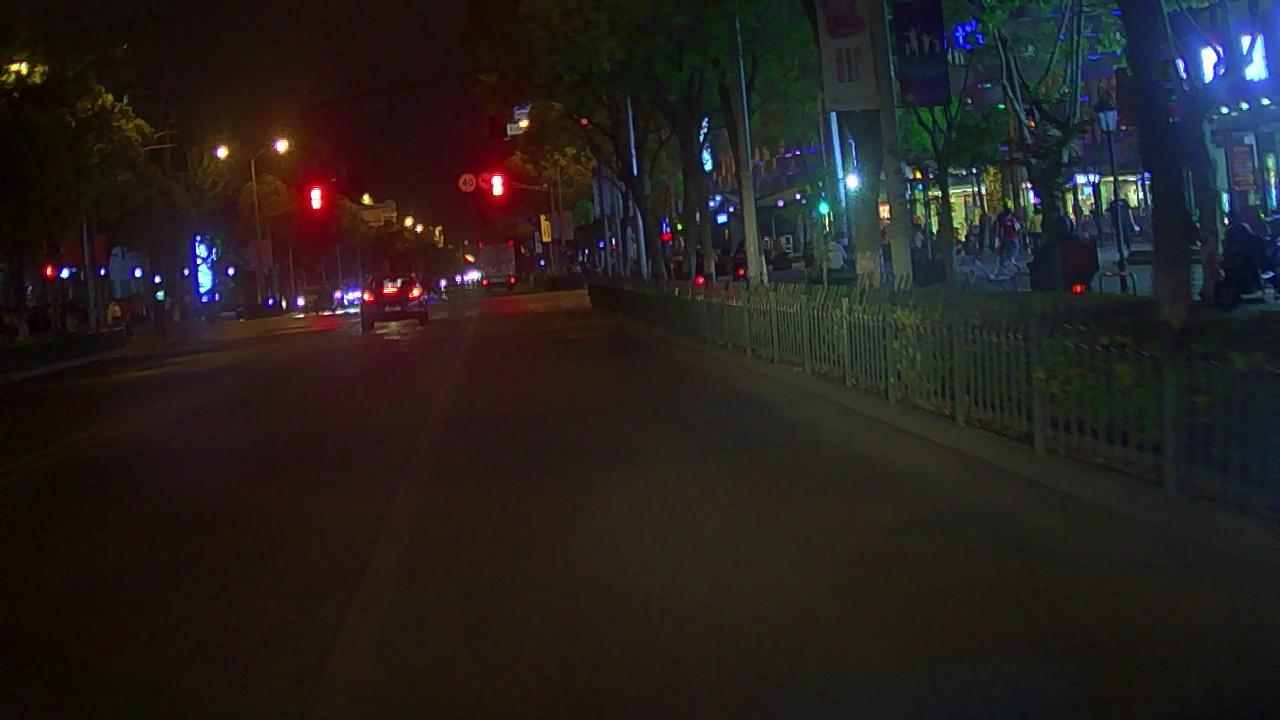traffic_light: (306, 184, 327, 213), (487, 175, 507, 200)
